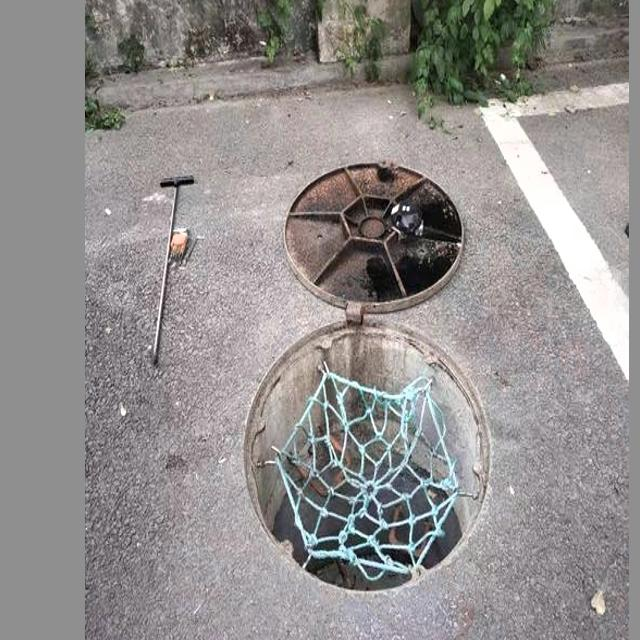uncovered: (216, 135, 518, 604)
